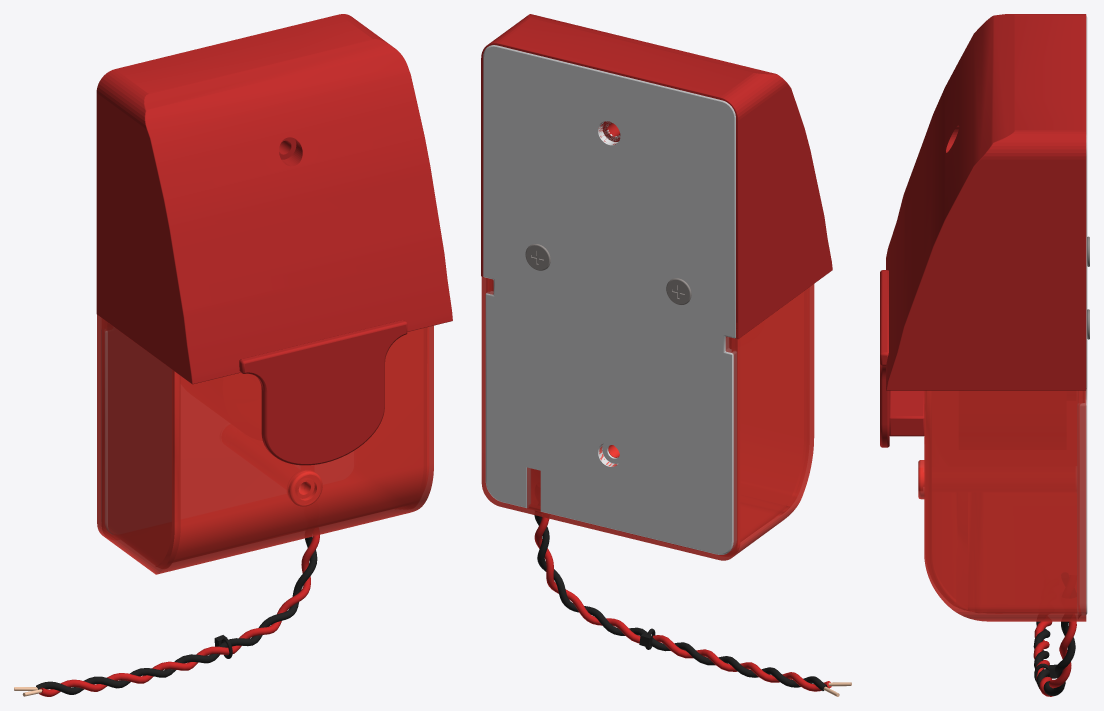
File: siren.glb
3 views of the same model, side by side, from view 1: azimuth 30°, elevation 25°; view 2: azimuth 150°, elevation 25°; view 3: azimuth 270°, elevation 25° (orthographic). The views are drawn at different scales.
Visible parts, largest first — view 1: SIREN_Cover, SIREN_Lens, SIREN_Cover_Lip, SIREN_Wire_Black, SIREN_Wire_Red, SIREN_Lens_Boss, SIREN_BasePlate; view 2: SIREN_BasePlate, SIREN_Cover, SIREN_Lens, SIREN_Wire_Red, SIREN_Wire_Black; view 3: SIREN_Cover, SIREN_Lens, SIREN_BasePlate, SIREN_Cover_Tab, SIREN_Cover_Lip, SIREN_Wire_Black, SIREN_Wire_Red.
Boxes of the visible parts, <box> form: SIREN_Cover: <box>96,14,452,384</box>; SIREN_Lens: <box>97,315,433,574</box>; SIREN_Cover_Lip: <box>239,320,407,465</box>; SIREN_Wire_Black: <box>36,536,317,694</box>; SIREN_Wire_Red: <box>39,534,319,696</box>; SIREN_Lens_Boss: <box>287,470,322,506</box>; SIREN_BasePlate: <box>101,330,113,534</box>; SIREN_BasePlate: <box>483,45,736,554</box>; SIREN_Cover: <box>481,14,832,338</box>; SIREN_Lens: <box>481,276,814,560</box>; SIREN_Wire_Red: <box>534,517,831,691</box>; SIREN_Wire_Black: <box>534,515,826,690</box>; SIREN_Cover: <box>886,14,1086,390</box>; SIREN_Lens: <box>924,390,1086,621</box>; SIREN_BasePlate: <box>1077,16,1087,614</box>; SIREN_Cover_Tab: <box>889,390,924,436</box>; SIREN_Cover_Lip: <box>880,270,889,447</box>; SIREN_Wire_Black: <box>1033,621,1075,695</box>; SIREN_Wire_Red: <box>1033,621,1076,696</box>.
Bounding box in the file's own units: 0.087 × 0.1406 × 0.0428.
